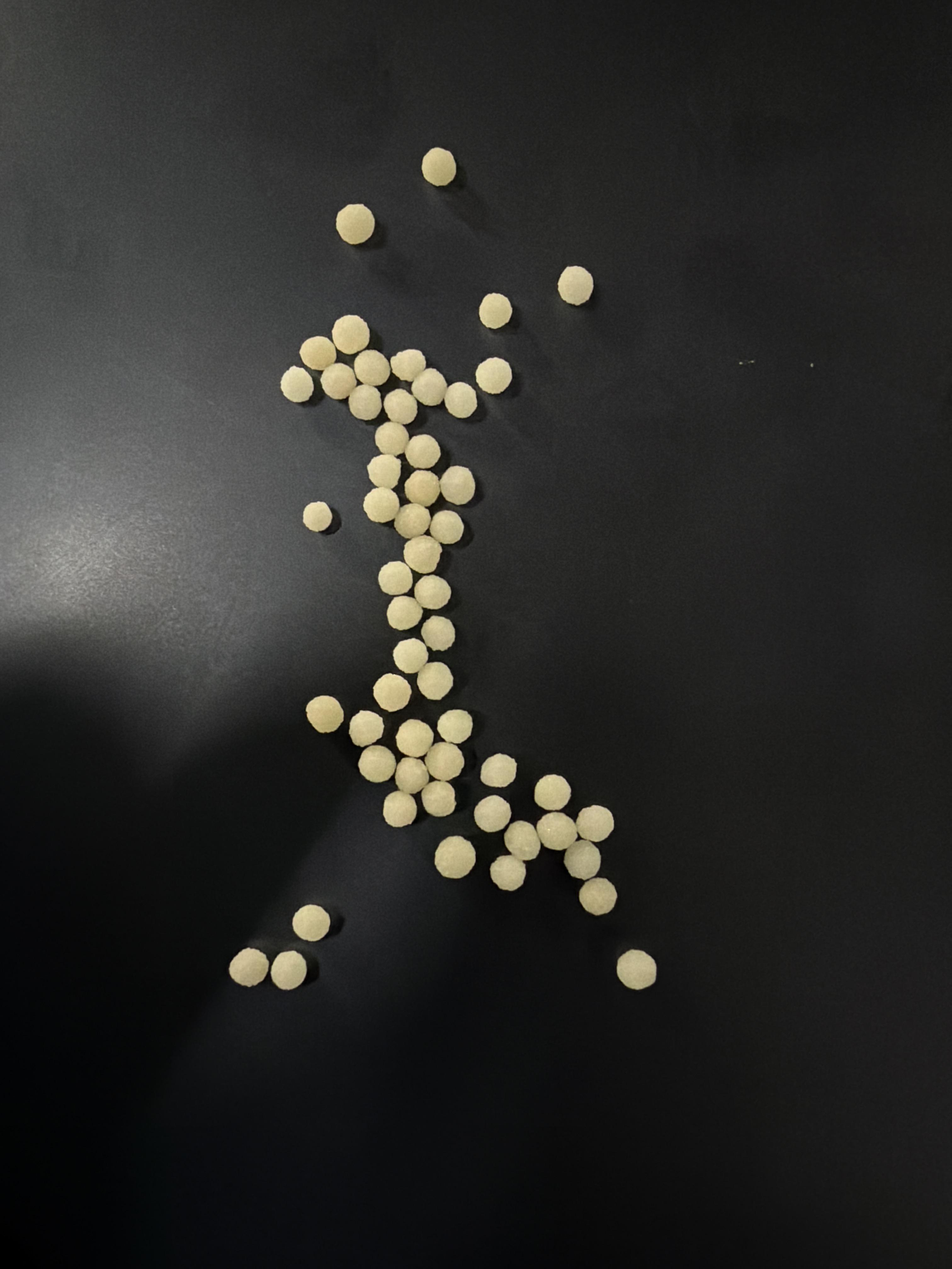pill: (434, 836, 476, 879), (616, 949, 656, 990), (536, 811, 576, 851), (229, 947, 269, 987), (336, 204, 375, 245), (424, 741, 463, 781), (372, 673, 411, 712), (403, 534, 442, 573), (395, 719, 433, 758), (564, 840, 601, 880), (332, 315, 369, 355), (579, 877, 617, 915), (358, 744, 396, 782), (306, 695, 344, 733), (292, 904, 331, 941), (271, 950, 307, 990), (411, 367, 447, 407), (576, 805, 614, 842), (353, 349, 390, 387), (504, 821, 540, 860), (417, 661, 453, 700), (439, 466, 475, 505), (474, 795, 511, 832), (475, 357, 512, 394), (394, 502, 431, 539), (490, 853, 526, 891), (404, 469, 440, 507), (558, 266, 593, 305), (421, 147, 456, 186), (534, 774, 571, 810), (348, 710, 384, 747), (363, 487, 400, 523), (299, 336, 336, 372), (383, 388, 418, 426), (321, 362, 356, 400), (437, 708, 473, 744), (405, 433, 441, 469), (420, 780, 455, 817), (395, 758, 430, 794), (347, 385, 382, 421), (480, 753, 517, 787), (383, 790, 417, 827), (414, 575, 451, 609), (280, 366, 314, 403), (444, 381, 477, 419), (420, 616, 455, 651), (393, 639, 428, 674), (387, 595, 422, 630), (429, 509, 464, 544), (367, 453, 401, 489), (375, 420, 409, 456), (479, 293, 512, 329), (390, 349, 426, 382), (378, 561, 412, 595), (303, 501, 332, 532)
